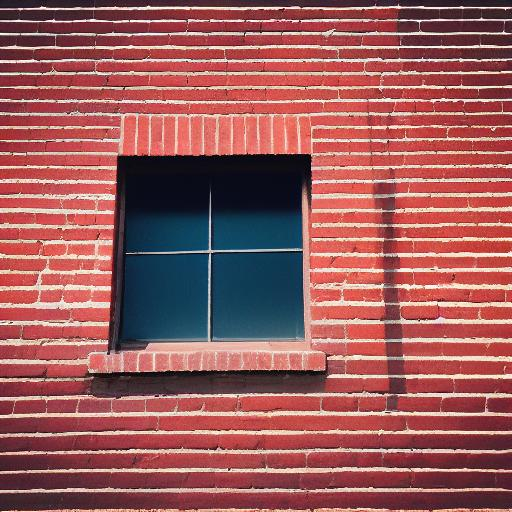Window: (88, 114, 330, 376)
